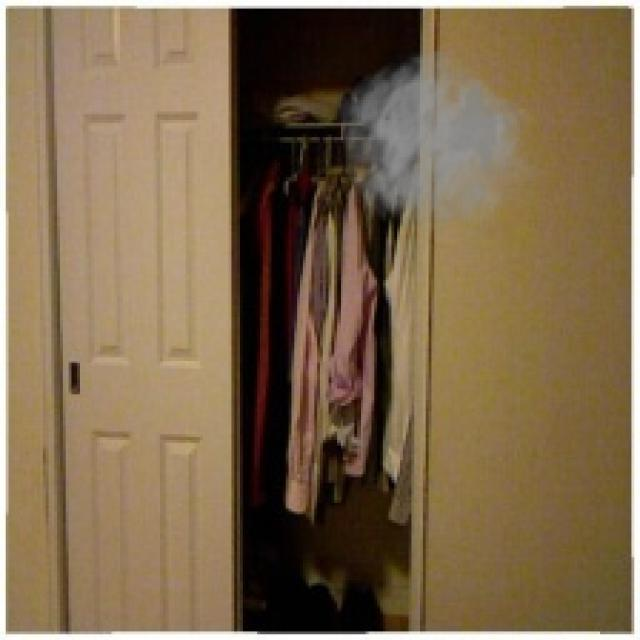Smoke: (334, 48, 540, 248)
